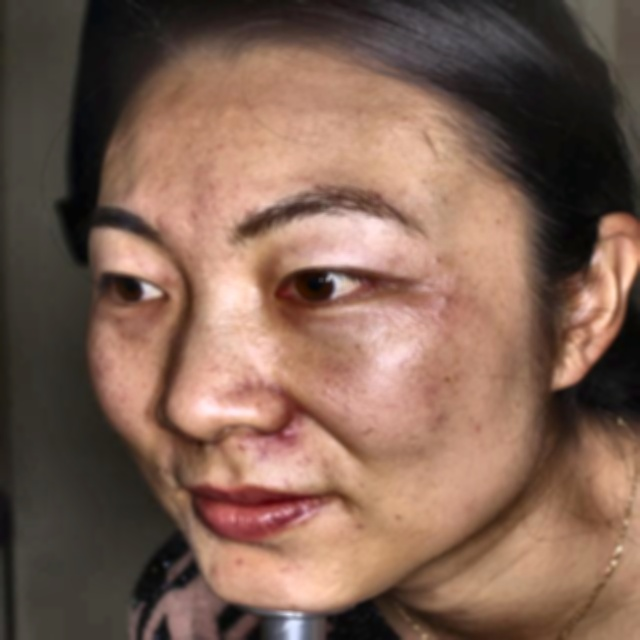comedone: (271, 424, 300, 446)
